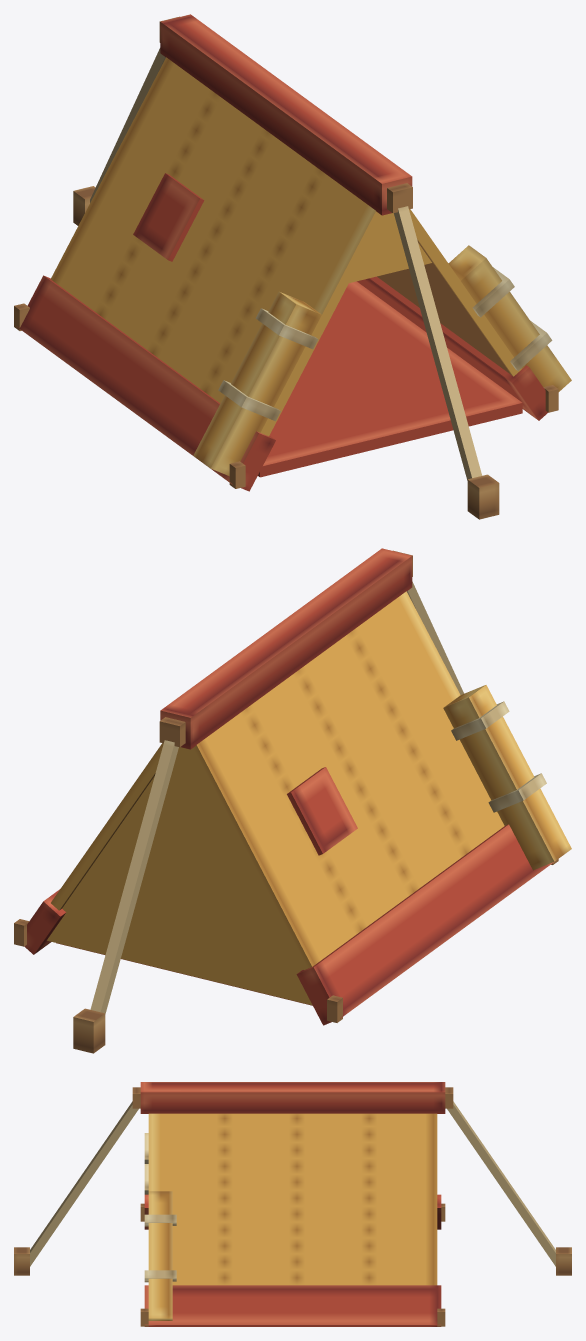
Rendered from EP_Tent.fbx.
3 renders of one model, top to bottom at view 1: azimuth 30°, elevation 25°; view 2: azimuth 150°, elevation 25°; view 3: azimuth 270°, elevation 25°, orthographic. The views are drawn at different scales.
Visible parts, largest first — view 1: tent; view 2: tent; view 3: tent.
Part boxes in pixels (bbox=[...]): tent: bbox=[14, 14, 571, 519]; tent: bbox=[14, 548, 571, 1053]; tent: bbox=[14, 1082, 571, 1326].
Bounding box in the file's own units: 224 × 165 × 435.
